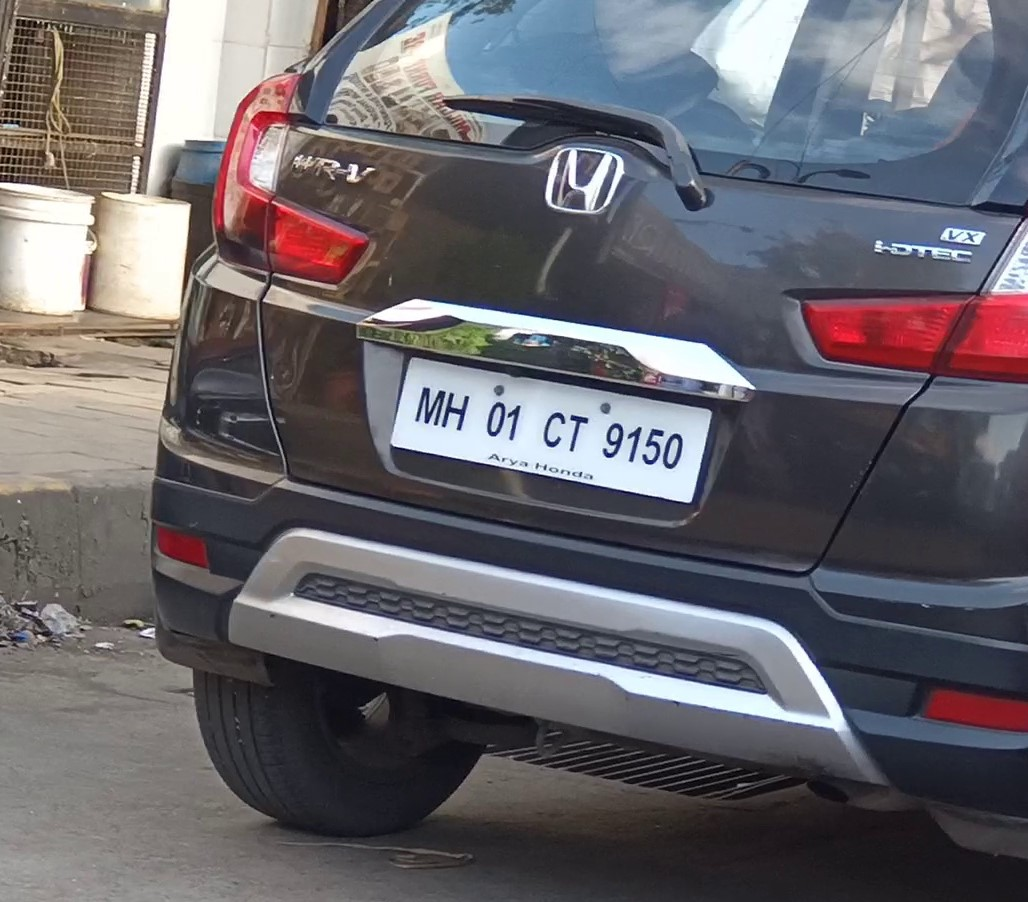MH01CT9150: (388, 354, 712, 504)
